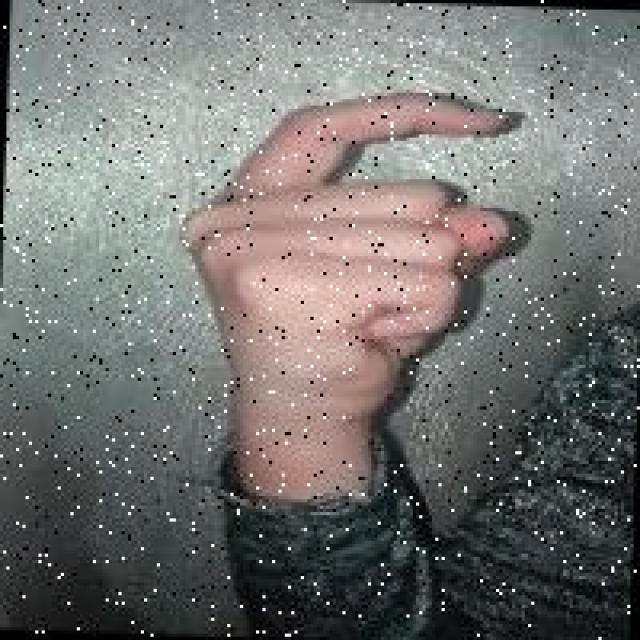X: (176, 72, 525, 418)
